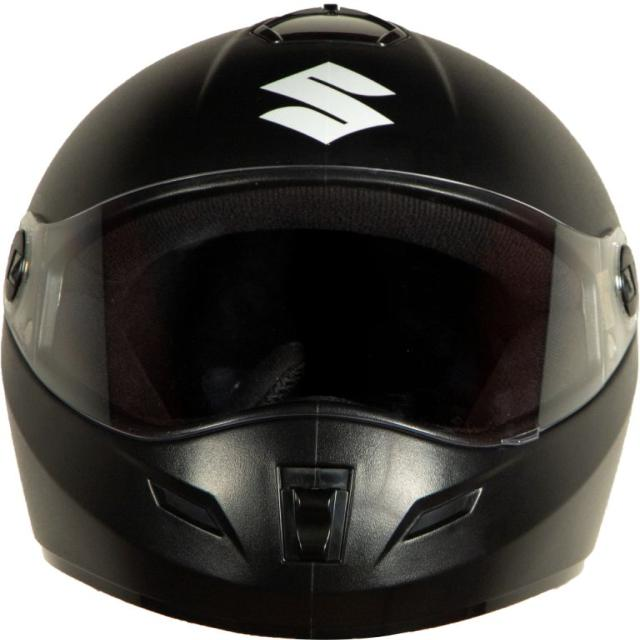Helmet: (3, 5, 638, 639)
